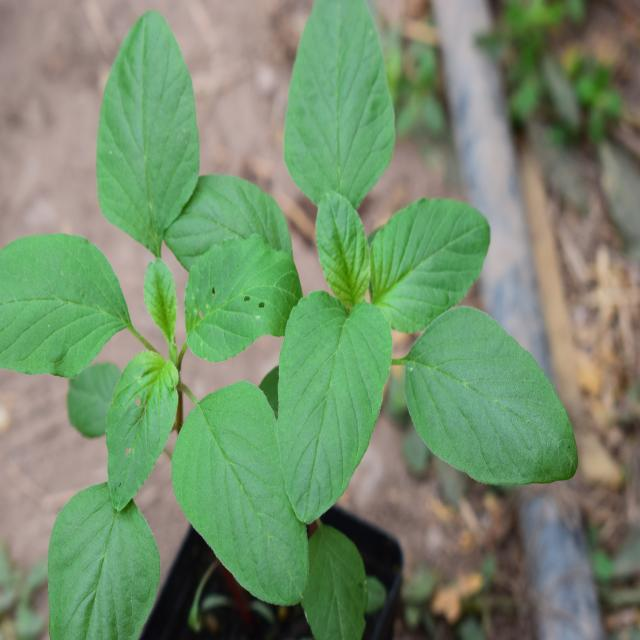pigweed: (214, 18, 568, 536)
